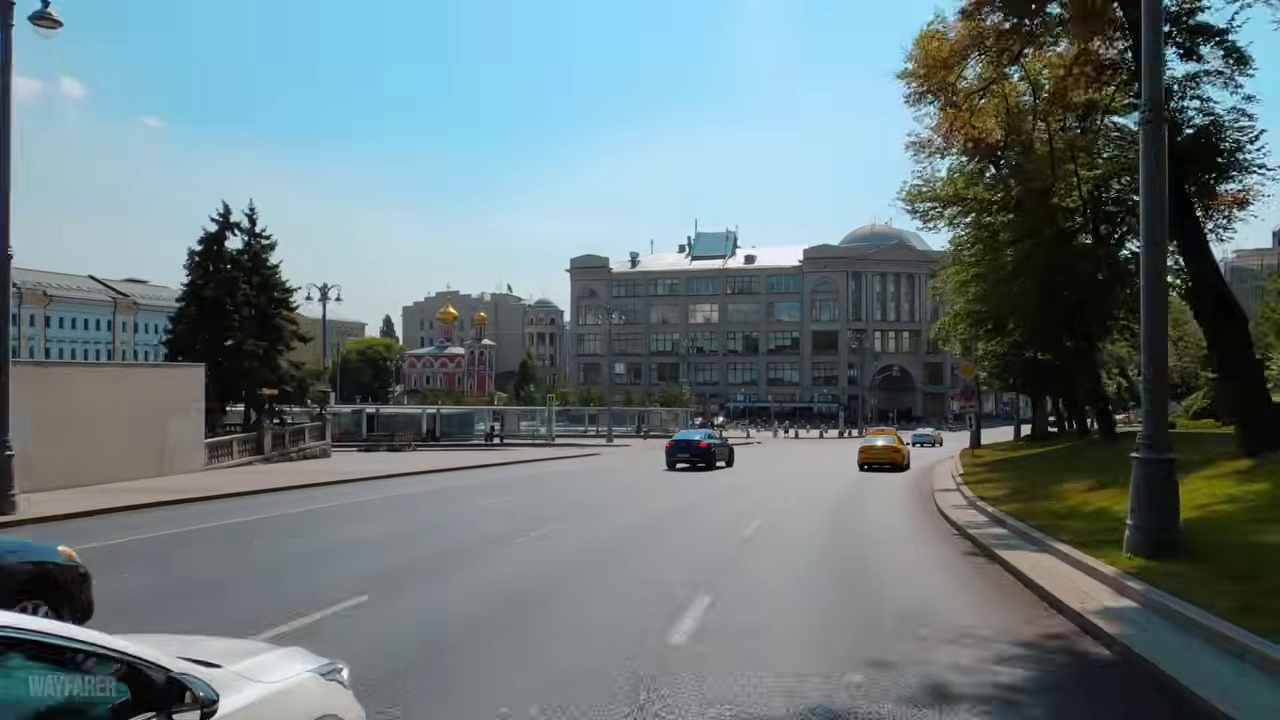apagada: (298, 273, 349, 309), (24, 4, 63, 35)
